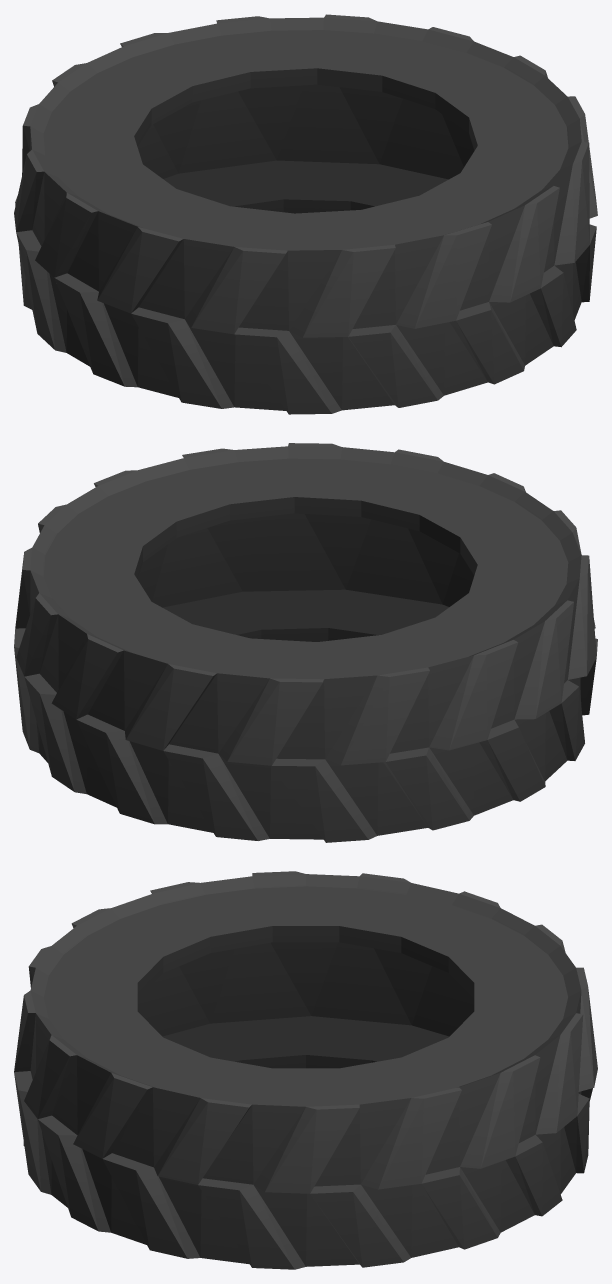
Rendered from Prop_Tractor_Tire_01.obj.
The picture shows the model from 3 angles, top to bottom: view 1: azimuth 30°, elevation 25°; view 2: azimuth 150°, elevation 25°; view 3: azimuth 270°, elevation 25°; orthographic projection.
Parts seen in each view (by area): view 1: Prop_Tractor_Tire_01; view 2: Prop_Tractor_Tire_01; view 3: Prop_Tractor_Tire_01.
Part boxes in pixels (x1=…): Prop_Tractor_Tire_01: x1=14, y1=14, x2=597, y2=414; Prop_Tractor_Tire_01: x1=14, y1=443, x2=597, y2=842; Prop_Tractor_Tire_01: x1=14, y1=871, x2=597, y2=1269.
Bounding box in the file's own units: 1.72 × 0.52 × 1.72.
1 material, 1 textured.
